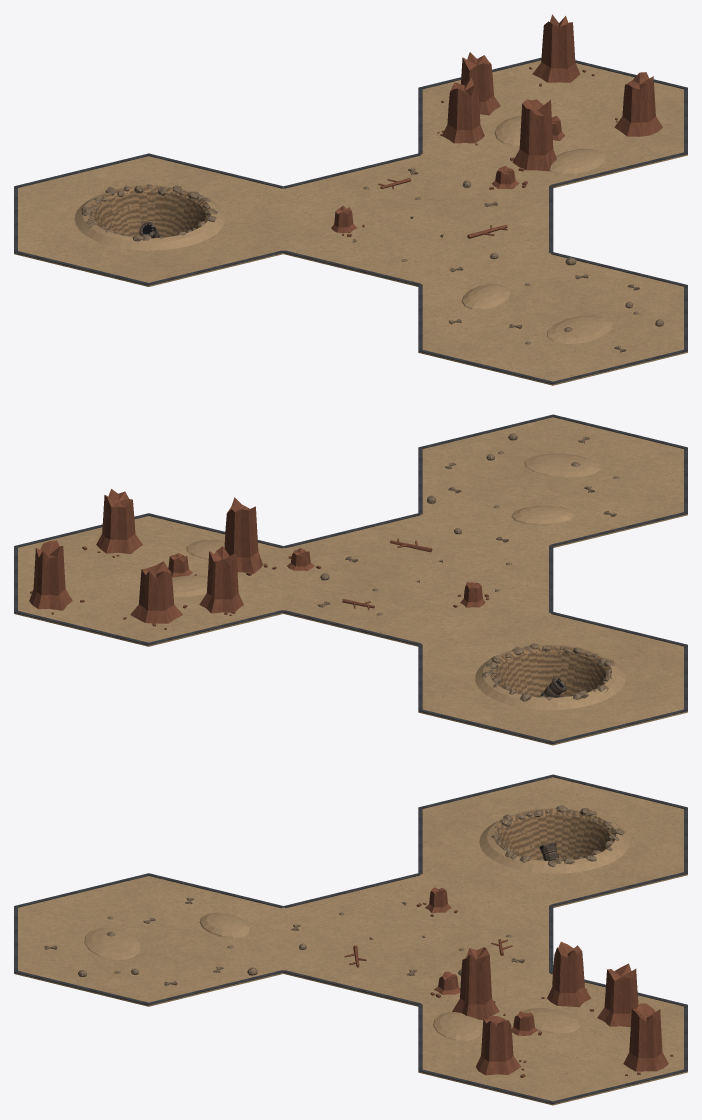
The model's file is WasteHex_HookM.glb.
3 views of the same model, one above another, from view 1: azimuth 30°, elevation 25°; view 2: azimuth 150°, elevation 25°; view 3: azimuth 270°, elevation 25° (orthographic).
Parts seen in each view (by area): view 1: WasteHex_HookM_Ground, WasteHex_HookM_Prop_Petrified, WasteHex_HookM_GroundTrim, WasteHex_HookM_Prop_PitWall, WasteHex_HookM_Prop_Drift, WasteHex_HookM_Prop_PitRim, WasteHex_HookM_Prop_Rock, WasteHex_HookM_Prop_ShellBand; view 2: WasteHex_HookM_Ground, WasteHex_HookM_Prop_Petrified, WasteHex_HookM_GroundTrim, WasteHex_HookM_Prop_PitWall, WasteHex_HookM_Prop_Drift, WasteHex_HookM_Prop_PitRim, WasteHex_HookM_Prop_Rock, WasteHex_HookM_Prop_ShellBand; view 3: WasteHex_HookM_Ground, WasteHex_HookM_Prop_Petrified, WasteHex_HookM_GroundTrim, WasteHex_HookM_Prop_Drift, WasteHex_HookM_Prop_PitWall, WasteHex_HookM_Prop_PitRim, WasteHex_HookM_Prop_Rock, WasteHex_HookM_Prop_ShellBand.
Part boxes in pixels (x1=…): WasteHex_HookM_Ground: x1=14, y1=60, x2=687, y2=385; WasteHex_HookM_Prop_Petrified: x1=331, y1=14, x2=662, y2=236; WasteHex_HookM_GroundTrim: x1=14, y1=57, x2=687, y2=384; WasteHex_HookM_Prop_PitWall: x1=89, y1=186, x2=211, y2=237; WasteHex_HookM_Prop_Drift: x1=461, y1=116, x2=612, y2=343; WasteHex_HookM_Prop_PitRim: x1=74, y1=185, x2=225, y2=250; WasteHex_HookM_Prop_Rock: x1=81, y1=184, x2=217, y2=241; WasteHex_HookM_Prop_ShellBand: x1=408, y1=168, x2=663, y2=352; WasteHex_HookM_Ground: x1=14, y1=417, x2=687, y2=745; WasteHex_HookM_Prop_Petrified: x1=29, y1=489, x2=489, y2=629; WasteHex_HookM_GroundTrim: x1=14, y1=414, x2=687, y2=743; WasteHex_HookM_Prop_PitWall: x1=489, y1=646, x2=611, y2=696; WasteHex_HookM_Prop_Drift: x1=172, y1=453, x2=600, y2=597; WasteHex_HookM_Prop_PitRim: x1=475, y1=645, x2=625, y2=710; WasteHex_HookM_Prop_Rock: x1=481, y1=643, x2=614, y2=701; WasteHex_HookM_Prop_ShellBand: x1=317, y1=433, x2=616, y2=607; WasteHex_HookM_Ground: x1=14, y1=777, x2=687, y2=1105; WasteHex_HookM_Prop_Petrified: x1=416, y1=887, x2=673, y2=1077; WasteHex_HookM_GroundTrim: x1=14, y1=774, x2=687, y2=1103; WasteHex_HookM_Prop_Drift: x1=84, y1=912, x2=580, y2=1040; WasteHex_HookM_Prop_PitWall: x1=493, y1=809, x2=616, y2=860; WasteHex_HookM_Prop_PitRim: x1=479, y1=808, x2=629, y2=873; WasteHex_HookM_Prop_Rock: x1=491, y1=805, x2=624, y2=866; WasteHex_HookM_Prop_ShellBand: x1=44, y1=897, x2=524, y2=985.
Size of the model in its own units: 30 by 4.54 by 25.98.
Materials: 11 (11 with a texture image).
